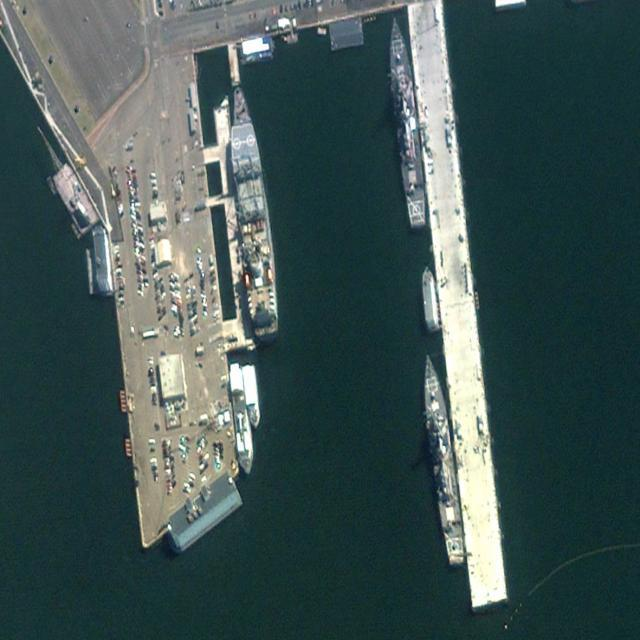Destroyer: (415, 349, 468, 568), (382, 12, 429, 230)
Other Ship: (219, 81, 283, 339), (228, 360, 254, 476), (419, 265, 439, 335), (243, 361, 262, 429)
